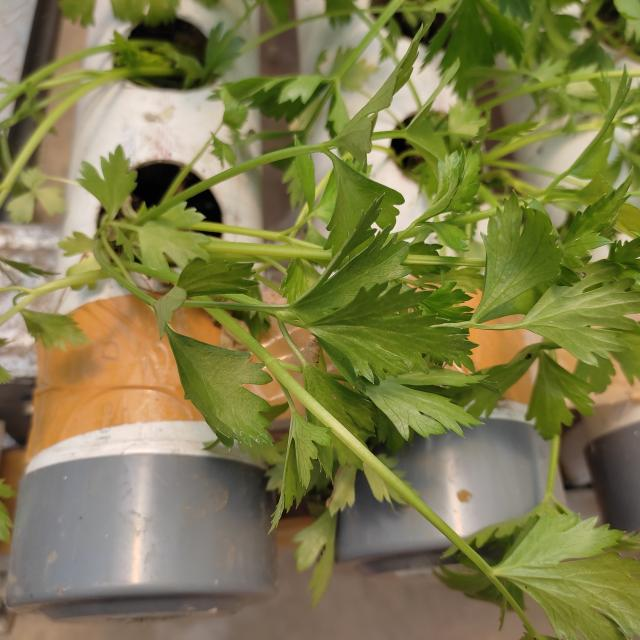Wet Waste: (83, 118, 630, 494)
